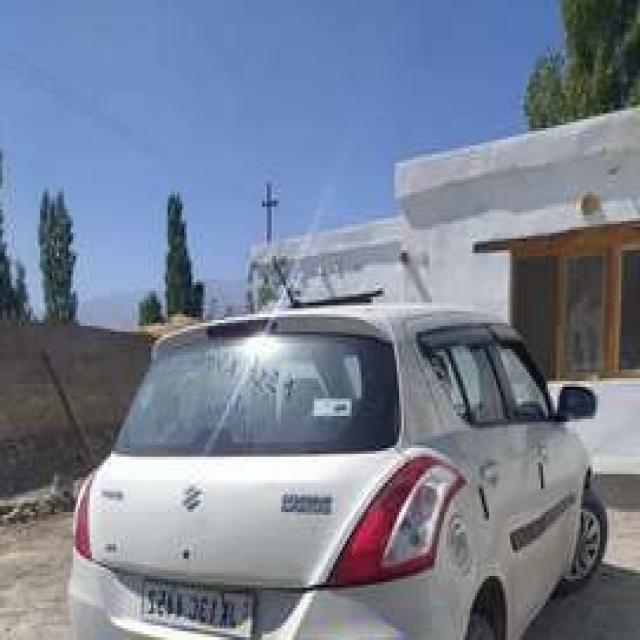license_plate: (139, 573, 262, 640)
